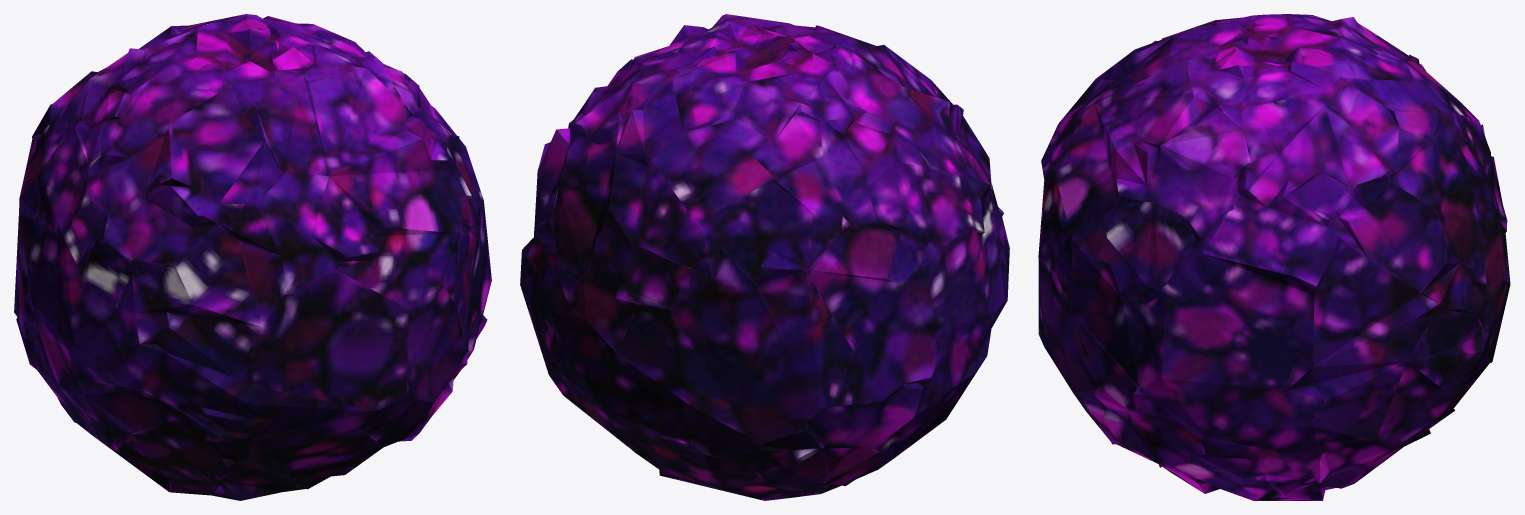
Rendered from crystal.glb.
3 renders of one model, left to right at view 1: azimuth 30°, elevation 25°; view 2: azimuth 150°, elevation 25°; view 3: azimuth 270°, elevation 25°, orthographic.
Visible parts, largest first — view 1: geometry_0; view 2: geometry_0; view 3: geometry_0.
Boxes of the visible parts, <box> form: geometry_0: <box>14,14,491,500</box>; geometry_0: <box>520,14,1009,500</box>; geometry_0: <box>1038,14,1510,500</box>.
Bounding box in the file's own units: 0.9635 × 0.9881 × 0.9729.
1 material, 1 textured.
